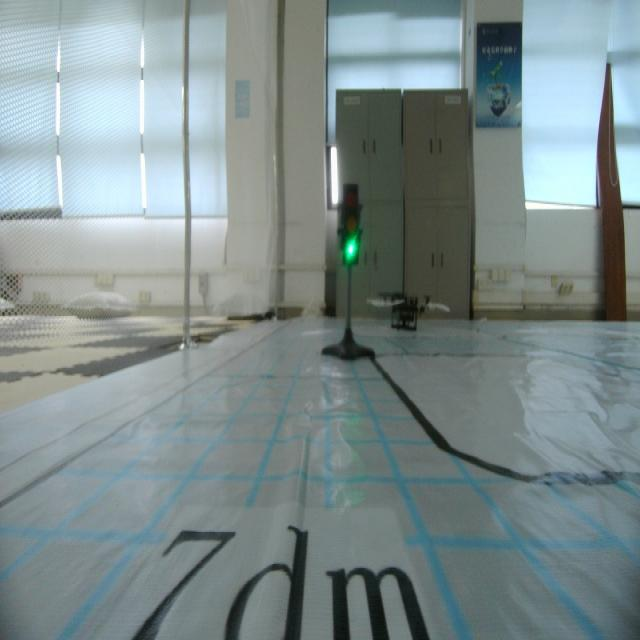green: (341, 180, 363, 268)
